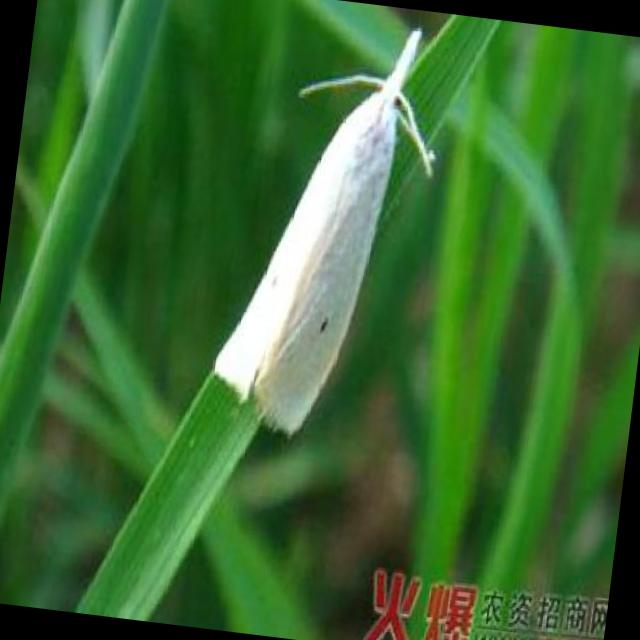stem-borer: (202, 7, 452, 456)
